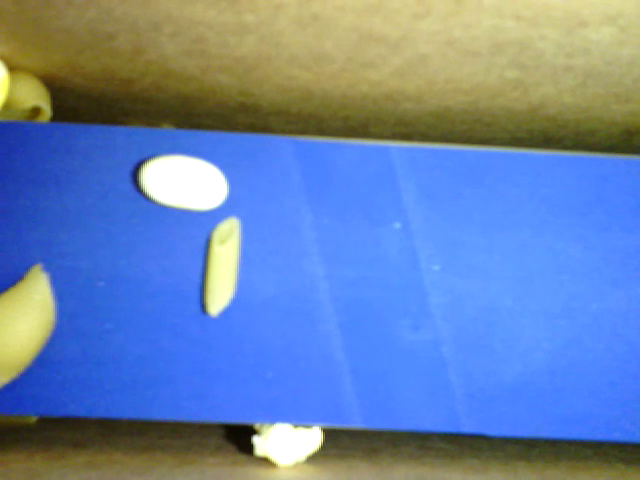penne: (202, 216, 245, 320)
shell: (3, 264, 55, 388), (2, 72, 54, 126)
